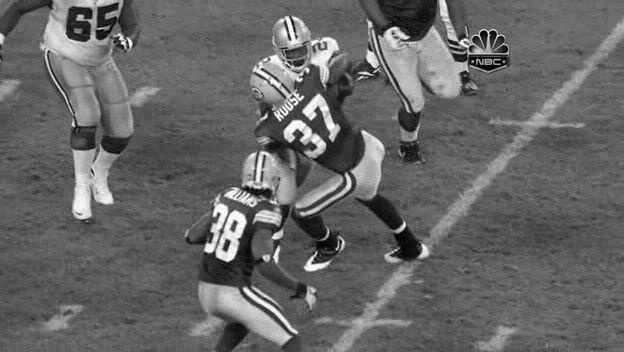person: (276, 23, 313, 71), (275, 23, 312, 71), (277, 23, 314, 71), (276, 22, 313, 70), (276, 24, 313, 72)
target_negative: (71, 258, 529, 290), (232, 171, 596, 205), (48, 205, 123, 277), (408, 164, 457, 238), (258, 185, 427, 206), (600, 244, 604, 248)
